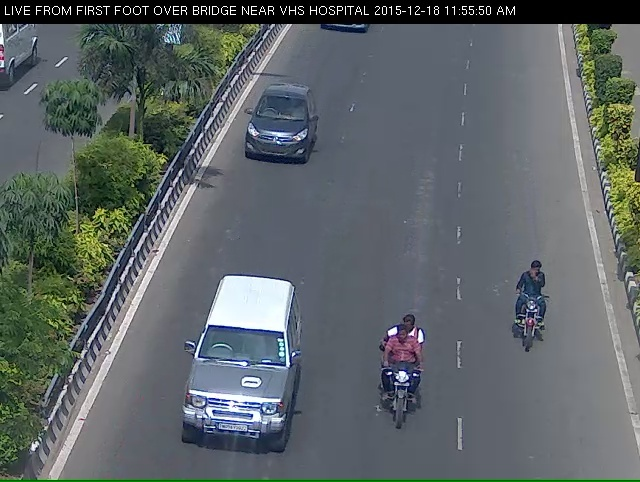Car: (174, 289, 292, 480), (242, 82, 318, 185)
Person: (366, 343, 438, 464), (500, 275, 563, 381)
